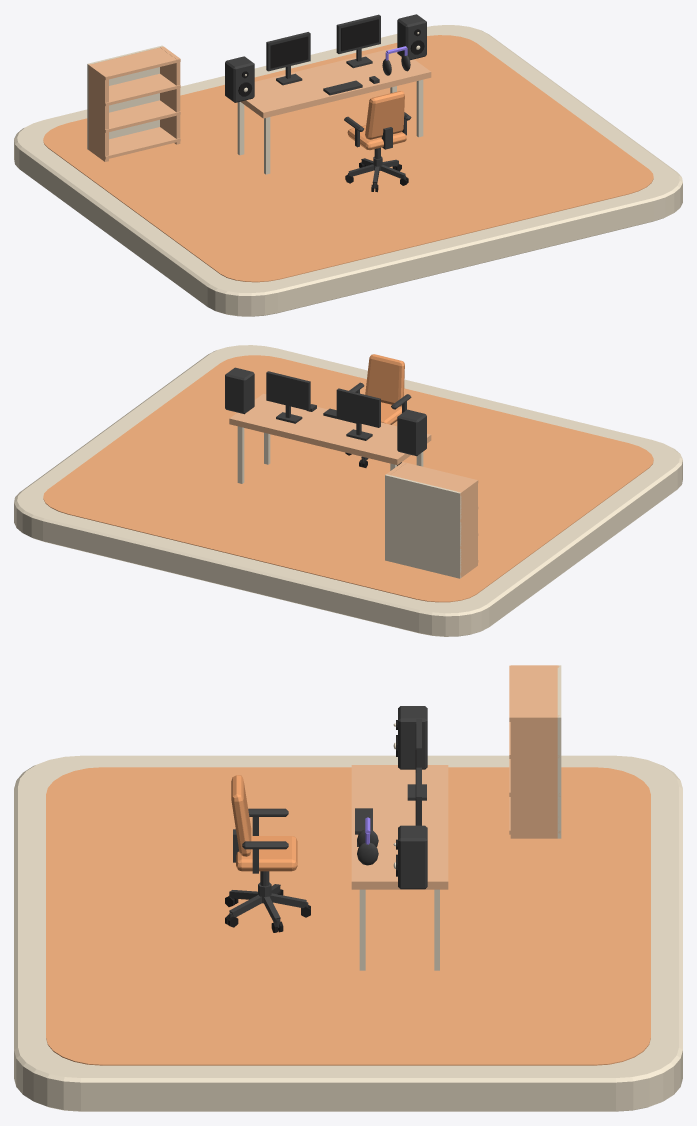
3 renders of one model, top to bottom at view 1: azimuth 30°, elevation 25°; view 2: azimuth 150°, elevation 25°; view 3: azimuth 270°, elevation 25°, orthographic. The views are drawn at different scales.
Visible parts, largest first — view 1: COM-02 Floor Surface, COM-01 Rounded Base Direct, Top, COM-04_Chair_blender_direct, Side, Frame.001, Frame, Back, Shelf.003, Shelf.001, Shelf.002, Shelf (+3 smaller); view 2: COM-02 Floor Surface, COM-01 Rounded Base Direct, Back, Top, COM-04_Chair_blender_direct, Frame, Frame.001, Side, Enclosure, Enclosure.001, Shelf.003; view 3: COM-02 Floor Surface, COM-01 Rounded Base Direct, Top, COM-04_Chair_blender_direct, Side.001, Shelf.003, Enclosure.001, Enclosure, Back.
Boxes of the visible parts, bbox=[...] form: COM-02 Floor Surface: bbox=[43, 35, 653, 282]; COM-01 Rounded Base Direct: bbox=[14, 25, 682, 316]; Top: bbox=[237, 47, 431, 174]; COM-04_Chair_blender_direct: bbox=[344, 91, 411, 192]; Side: bbox=[88, 64, 108, 161]; Frame.001: bbox=[336, 14, 380, 68]; Frame: bbox=[266, 32, 310, 85]; Back: bbox=[87, 45, 163, 149]; Shelf.003: bbox=[88, 47, 180, 80]; Shelf.001: bbox=[88, 100, 180, 132]; Shelf.002: bbox=[88, 73, 180, 106]; Shelf: bbox=[88, 127, 180, 159]; COM-02 Floor Surface: bbox=[43, 355, 653, 602]; COM-01 Rounded Base Direct: bbox=[14, 345, 682, 636]; Back: bbox=[385, 474, 461, 578]; Top: bbox=[229, 393, 431, 483]; COM-04_Chair_blender_direct: bbox=[345, 354, 411, 467]; Frame: bbox=[336, 388, 380, 440]; Frame.001: bbox=[266, 371, 310, 423]; Side: bbox=[458, 479, 477, 577]; Enclosure: bbox=[397, 409, 426, 456]; Enclosure.001: bbox=[225, 367, 254, 414]; Shelf.003: bbox=[390, 462, 478, 495]; COM-02 Floor Surface: bbox=[46, 767, 650, 1065]; COM-01 Rounded Base Direct: bbox=[14, 755, 682, 1111]; Top: bbox=[351, 765, 448, 970]; COM-04_Chair_blender_direct: bbox=[225, 775, 310, 932]; Side.001: bbox=[510, 715, 559, 838]; Shelf.003: bbox=[509, 665, 557, 721]; Enclosure.001: bbox=[398, 825, 427, 889]; Enclosure: bbox=[398, 706, 427, 769]; Back: bbox=[557, 665, 561, 838].
Bounding box in the file's own units: 6 × 1.65 × 5.2.
1 material, 1 textured.
